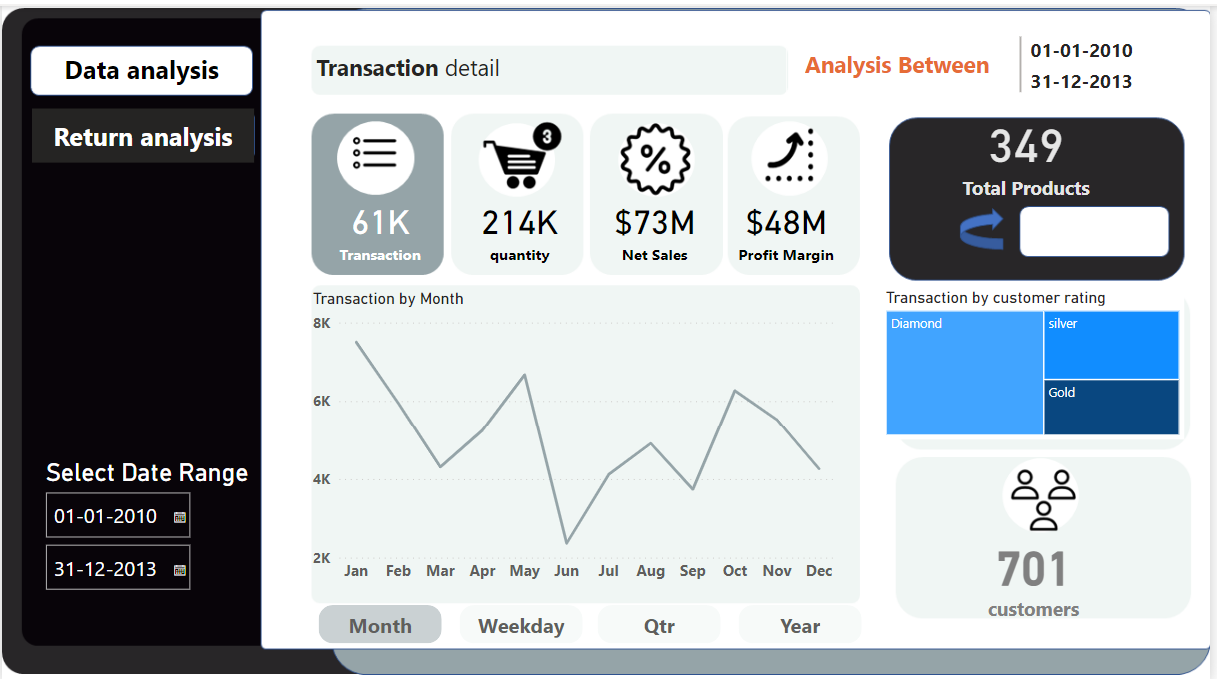

Layout of this report page (visuals, bound fields, positions):
{"tool":"powerbi","page":{"name":"Transaction","canvas":[1280,720],"ordinal":1},"visuals":[{"type":"card","fields":{"Values":["All Measures.Transaction"]},"box":[349.7,193.9,101.7,85.8],"z":0},{"type":"actionButton","title":"Inactive weekday","box":[484.8,639.1,131,40.4],"z":0,"group":"g4"},{"type":"card","fields":{"Values":["All Measures.Net Sales"]},"box":[640.5,193.9,101.7,85.8],"z":1000},{"type":"actionButton","title":"Active month","box":[335.1,639.4,131,40.4],"z":1000,"group":"g3"},{"type":"actionButton","title":"Inactive Qtr","box":[631.7,639.4,131,40.4],"z":1000,"group":"g1"},{"type":"actionButton","title":"Inactive Year","box":[780,639.4,131,40.4],"z":1000,"group":"g2"},{"type":"card","fields":{"Values":["All Measures.quantity"]},"box":[497.5,193.9,101.7,85.8],"z":2000},{"type":"card","fields":{"Values":["All Measures.Gross Profit Margin"]},"box":[772.5,193.9,116,85.8],"z":3000},{"type":"card","fields":{"Values":["All Measures.Products"]},"box":[945.7,103.3,278.1,106.5],"z":4000},{"type":"lineChart","fields":{"Category":["Calendar.Month"],"Y":["All Measures.Transaction"]},"box":[323.5,302.4,564.3,321.6],"z":5000},{"type":"group","id":"g1","title":"Qtr","box":[631.7,639.4,131,40.4],"z":9000},{"type":"group","id":"g2","title":"Year","box":[780,639.4,131,40.4],"z":10000},{"type":"group","id":"g3","title":"month","box":[335.1,639.4,131,40.4],"z":11000},{"type":"group","id":"g4","title":"weekday","box":[484.8,639.1,131.5,40.8],"z":12000},{"type":"treemap","fields":{"Group":["Lookup_Customers.customer rating"],"Values":["All Measures.Transaction"]},"box":[931.4,300.4,321.1,162.1],"z":13000},{"type":"card","fields":{"Values":["All Measures.customers"]},"box":[953.6,553.1,278.1,106.5],"z":14000},{"type":"textbox","box":[324.2,39.7,507,57.2],"z":15000},{"type":"actionButton","title":"Button","box":[324.9,110.1,143.2,170.7],"z":16000},{"type":"actionButton","title":"Button","box":[473.6,110.1,143.2,170.7],"z":17000},{"type":"actionButton","title":"Button","box":[620.4,110.1,143.2,170.7],"z":18000},{"type":"actionButton","title":"Button","box":[763.6,112,143.2,170.7],"z":19000},{"type":"actionButton","title":" active Return Analysis","box":[32.8,110.1,235.7,56],"z":20000},{"type":"actionButton","title":" active Return Analysis","box":[30.9,38.6,235.7,56],"z":21000},{"type":"slicer","fields":{"Values":["Calendar.Date"]},"box":[32.8,477.1,282,243.4],"z":22000},{"type":"multiRowCard","fields":{"Values":["All Measures.First date","All Measures.Last date"]},"box":[1072.8,27,179.6,76.3],"z":23000},{"type":"textbox","box":[846.2,40.4,225.8,44.1],"z":24001}]}

Visuals, with their boxes in screenshot pixels (x1, y1, x2, y2), scaled from the page's 1280x720 canvas onto the 1217x679 screenshot:
card - All Measures.Transaction: 332,183,429,264
"Inactive weekday" actionButton: 461,603,585,641
card - All Measures.Net Sales: 609,183,706,264
"Active month" actionButton: 319,603,443,641
"Inactive Qtr" actionButton: 601,603,725,641
"Inactive Year" actionButton: 742,603,866,641
card - All Measures.quantity: 473,183,570,264
card - All Measures.Gross Profit Margin: 734,183,845,264
card - All Measures.Products: 899,97,1164,198
lineChart - Calendar.Month x All Measures.Transaction: 308,285,844,588
"Qtr" group: 601,603,725,641
"Year" group: 742,603,866,641
"month" group: 319,603,443,641
"weekday" group: 461,603,586,641
treemap - Lookup_Customers.customer rating x All Measures.Transaction: 886,283,1191,436
card - All Measures.customers: 907,522,1171,622
textbox: 308,37,790,91
"Button" actionButton: 309,104,445,265
"Button" actionButton: 450,104,586,265
"Button" actionButton: 590,104,726,265
"Button" actionButton: 726,106,862,267
" active Return Analysis" actionButton: 31,104,255,157
" active Return Analysis" actionButton: 29,36,253,89
slicer - Calendar.Date: 31,450,299,678
multiRowCard - All Measures.First date x All Measures.Last date: 1020,25,1191,97
textbox: 805,38,1019,80
